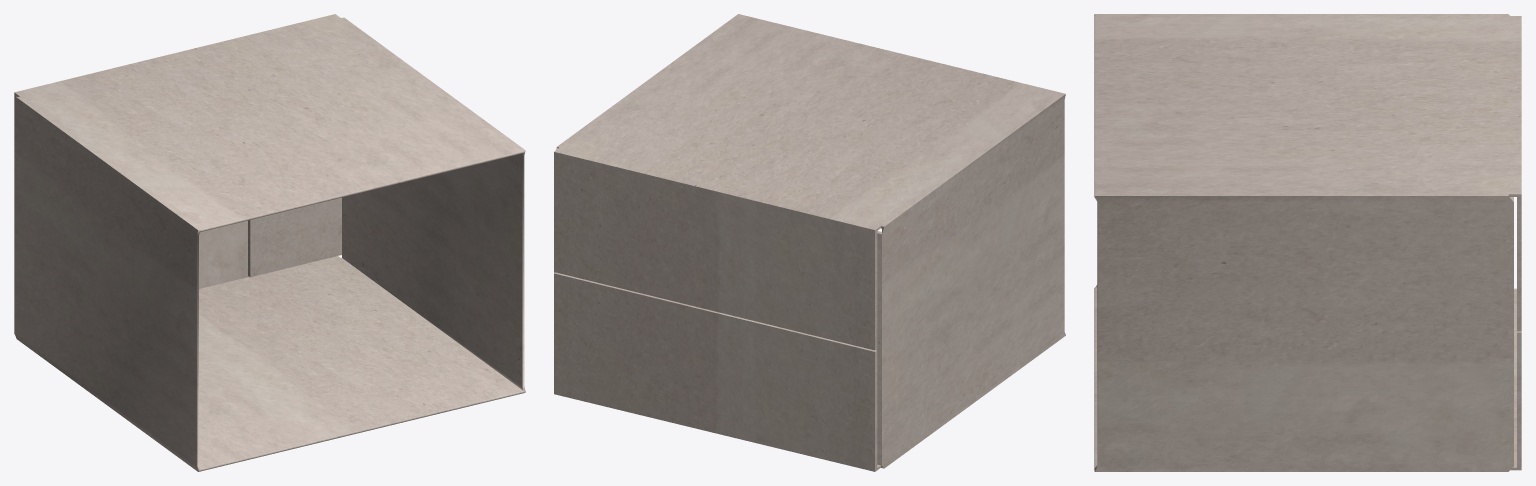
The model's file is MeshBox_17_0.obj.
3 renders of one model, left to right at view 1: azimuth 30°, elevation 25°; view 2: azimuth 150°, elevation 25°; view 3: azimuth 270°, elevation 25°, orthographic. The views are drawn at different scales.
Parts seen in each view (by area): view 1: Box_17; view 2: Box_17; view 3: Box_17.
Boxes of the visible parts, <box> form: Box_17: <box>14,14,525,471</box>; Box_17: <box>554,14,1065,471</box>; Box_17: <box>1094,14,1521,471</box>.
Size of the model in its own units: 0.2551 by 0.1804 by 0.2531.
